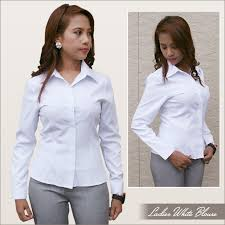S_shirt: (12, 59, 124, 200), (131, 60, 215, 161)
